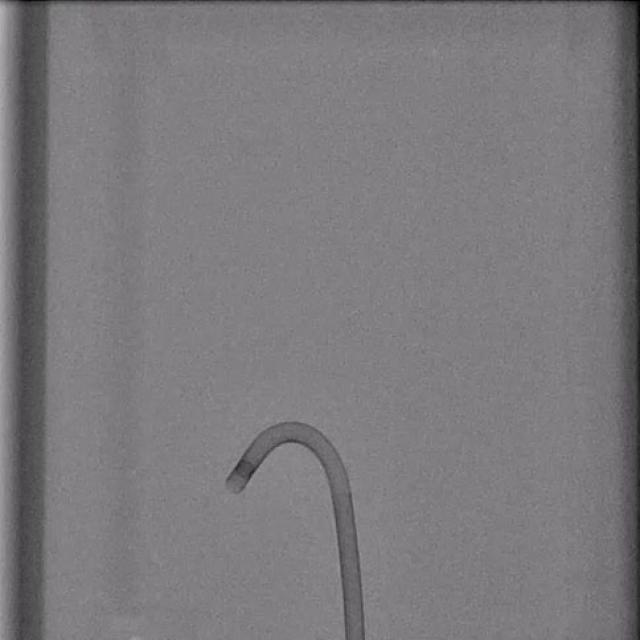bend: (328, 481, 352, 494)
entry: (345, 634, 363, 640)
marker: (235, 458, 256, 478)
tip: (225, 480, 242, 493)
